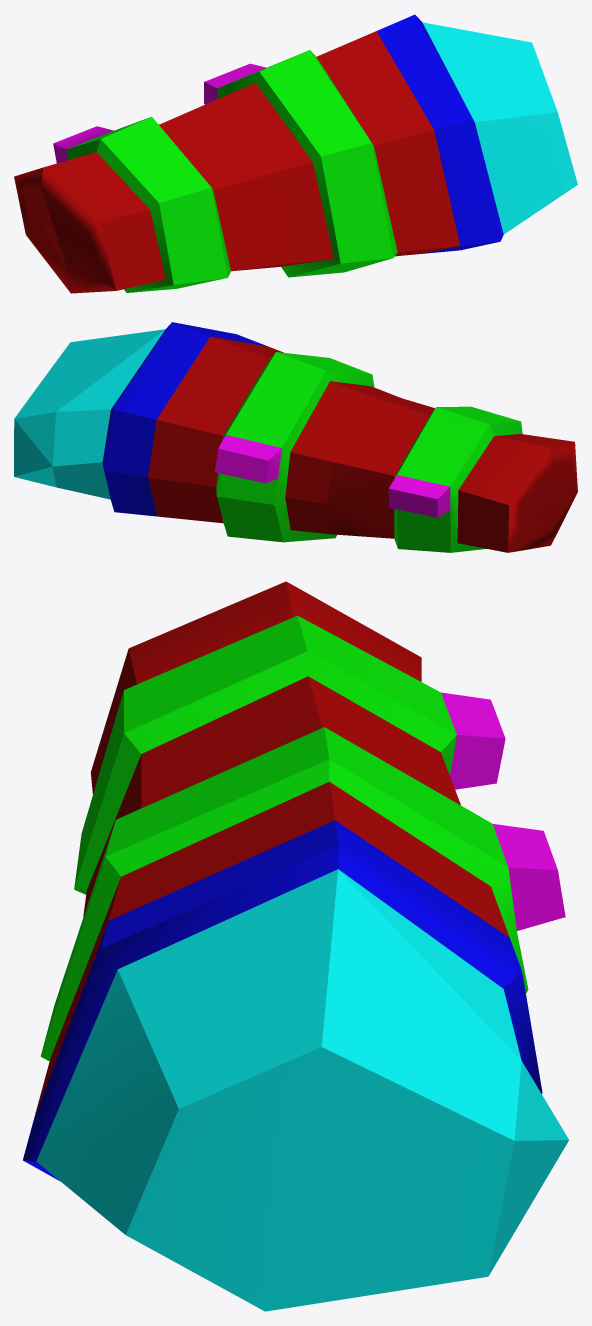
File: Chr_ArmLowerRight_Male_Static_14.fbx
3 views of the same model, one above another, from view 1: azimuth 30°, elevation 25°; view 2: azimuth 150°, elevation 25°; view 3: azimuth 270°, elevation 25° (orthographic). The views are drawn at different scales.
Parts seen in each view (by area): view 1: Chr_ArmLowerRight_Male_14; view 2: Chr_ArmLowerRight_Male_14; view 3: Chr_ArmLowerRight_Male_14.
Part boxes in pixels (bbox=[...]): Chr_ArmLowerRight_Male_14: bbox=[14, 14, 577, 293]; Chr_ArmLowerRight_Male_14: bbox=[14, 322, 577, 552]; Chr_ArmLowerRight_Male_14: bbox=[23, 581, 568, 1311].
Bounding box in the file's own units: 28.96 × 11.99 × 14.06.
